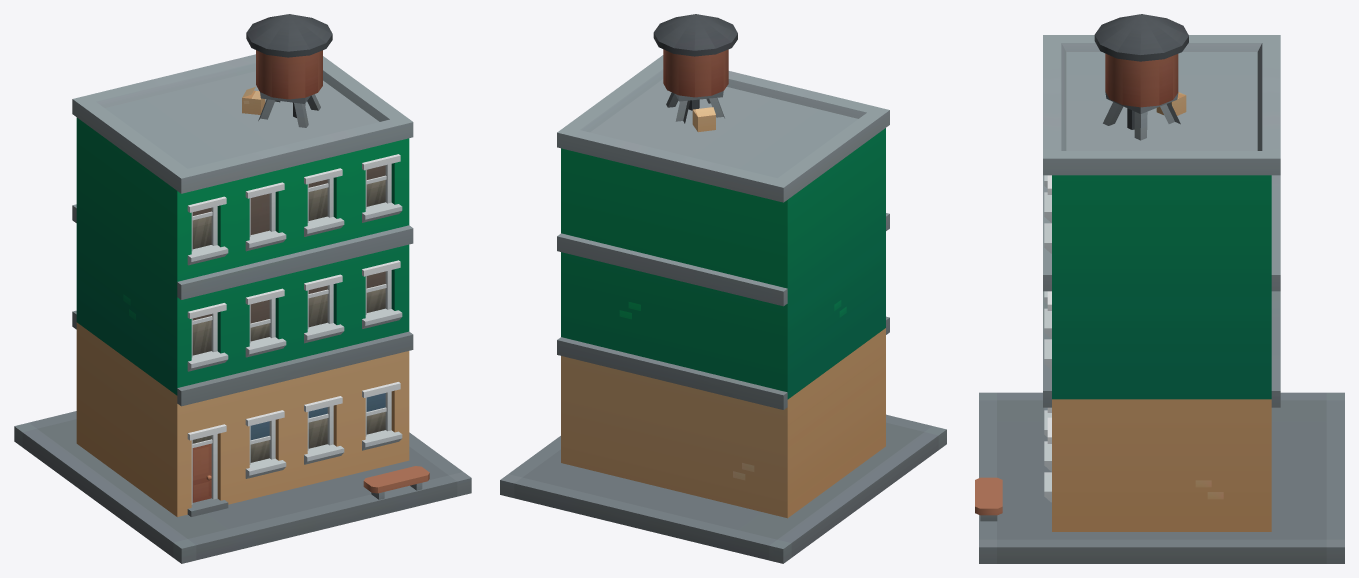
Rendered from bld-d.glb.
3 renders of one model, left to right at view 1: azimuth 30°, elevation 25°; view 2: azimuth 150°, elevation 25°; view 3: azimuth 270°, elevation 25°, orthographic. The views are drawn at different scales.
Visible parts, largest first — view 1: building_D; view 2: building_D; view 3: building_D.
Boxes of the visible parts, x1,y1,x2,y2 form: building_D: (14, 14, 471, 563); building_D: (500, 14, 946, 563); building_D: (975, 14, 1344, 563).
Bounding box in the file's own units: 2 × 2.97 × 2.02.
1 material, 1 textured.
